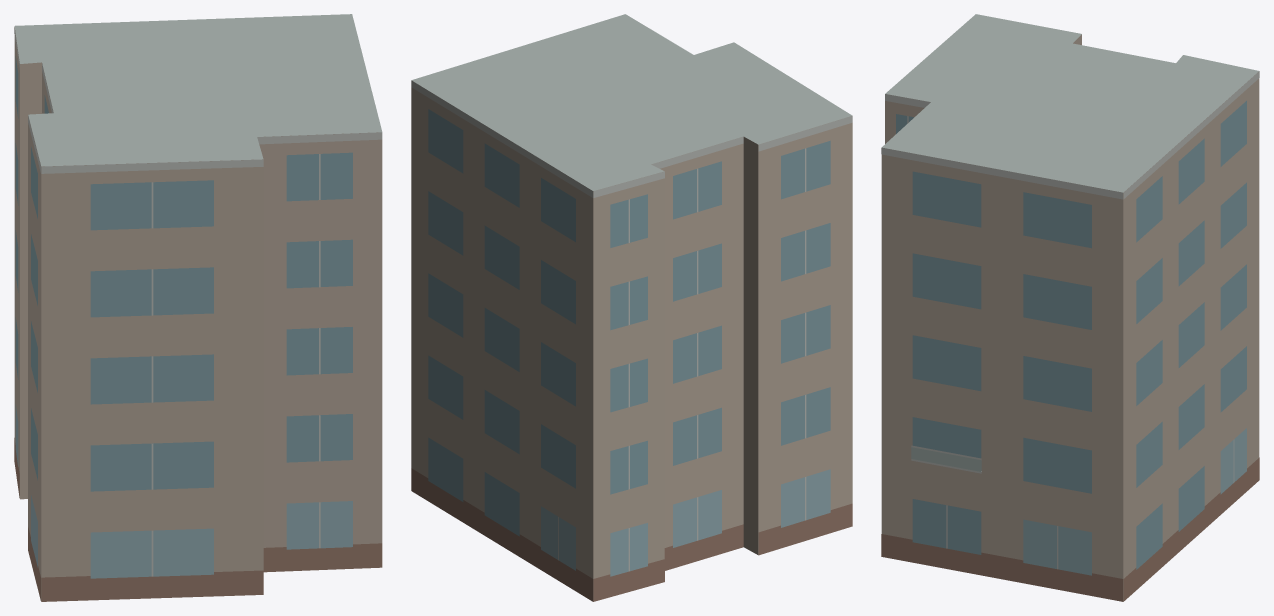
File: survey-upis-32894016.glb
3 views of the same model, side by side, from view 1: azimuth 30°, elevation 25°; view 2: azimuth 150°, elevation 25°; view 3: azimuth 270°, elevation 25° (orthographic). The views are drawn at different scales.
Visible parts, largest first — view 1: survey-upis-32894016.tmp; view 2: survey-upis-32894016.tmp; view 3: survey-upis-32894016.tmp.
Part boxes in pixels (left/top/right/bottom): survey-upis-32894016.tmp: left=14, top=14, right=382, bottom=601; survey-upis-32894016.tmp: left=411, top=14, right=852, bottom=601; survey-upis-32894016.tmp: left=881, top=14, right=1259, bottom=601.
Bounding box in the file's own units: 13.4 × 14.3 × 11.98.
